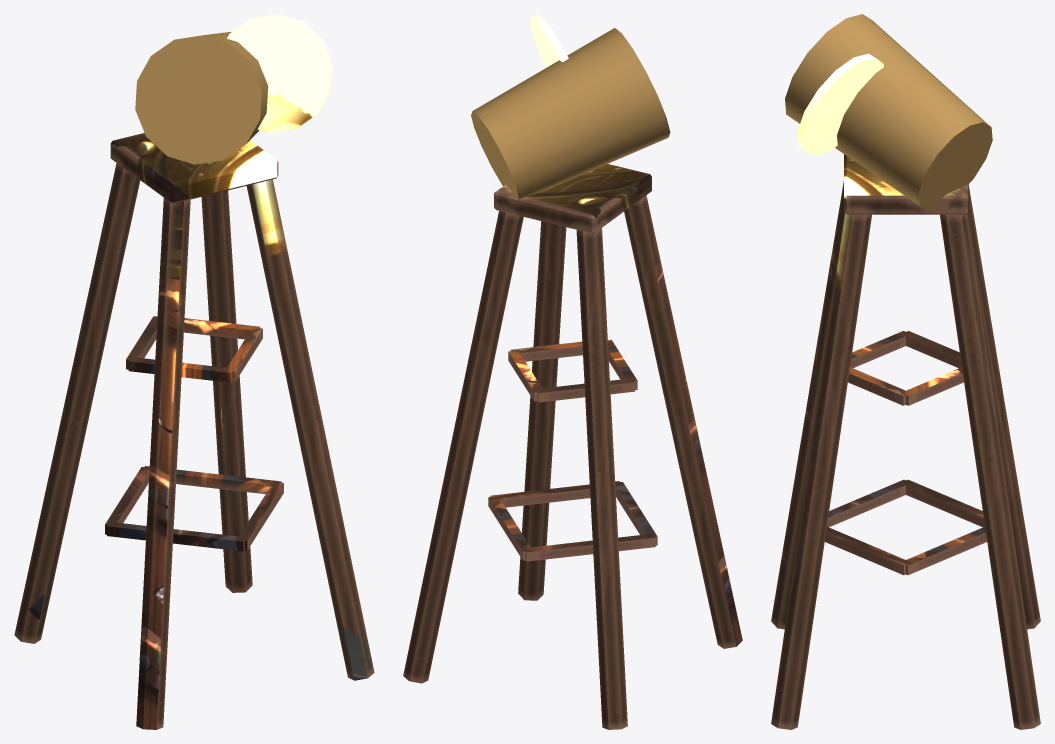
File: beacon.glb
The picture shows the model from 3 angles, left to right: view 1: azimuth 30°, elevation 25°; view 2: azimuth 150°, elevation 25°; view 3: azimuth 270°, elevation 25°; orthographic projection. The views are drawn at different scales.
Visible parts, largest first — view 1: beacon; view 2: beacon; view 3: beacon.
Part boxes in pixels (bbox=[...]): beacon: bbox=[14, 14, 374, 729]; beacon: bbox=[403, 14, 742, 729]; beacon: bbox=[771, 14, 1040, 729].
Bounding box in the file's own units: 0.9858 × 2.65 × 0.999.
2 materials, 1 textured.
